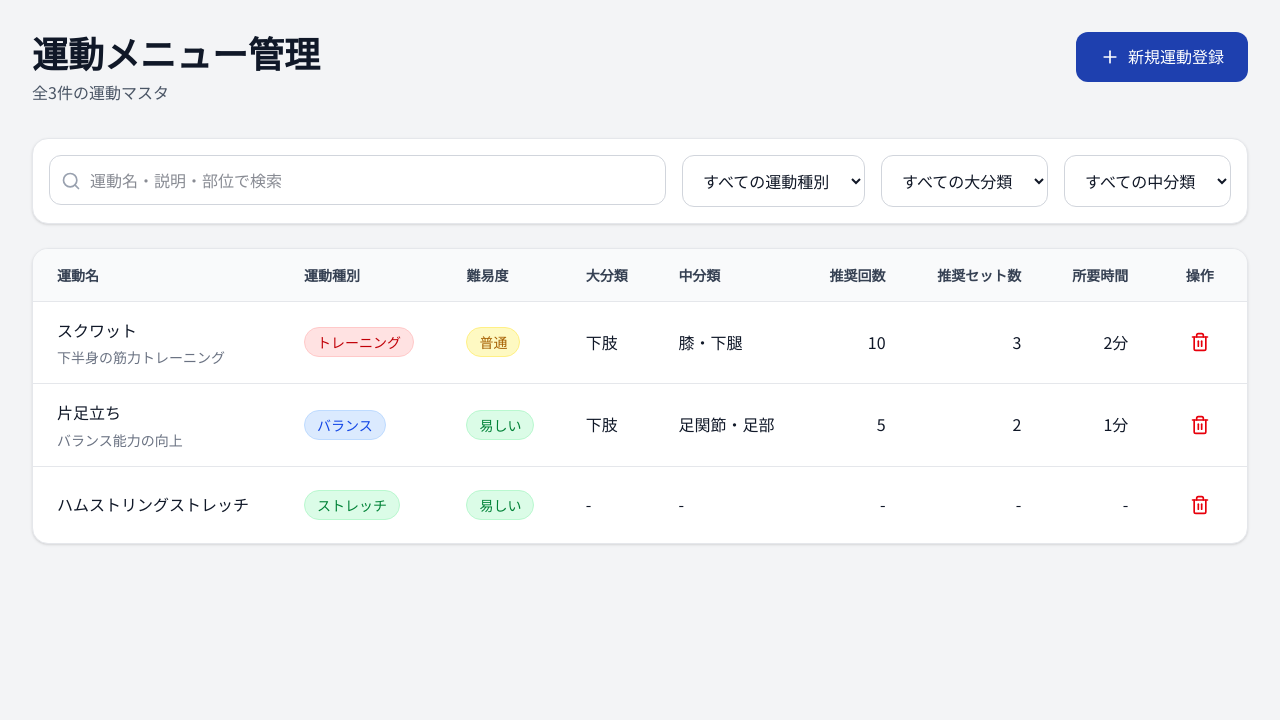
Test: S-10 ExerciseMenuManagement › filtering › should filter by difficulty
The image size is (1280, 720).
expect the text "スクワット" is shown: met, box [57, 318, 137, 342]
expect the text "片足立ち" is shown: met, box [57, 400, 121, 424]
Select "バランス" in the dropdown named "運動種別フィルター". click: (774, 181)
box: [682, 155, 865, 207]
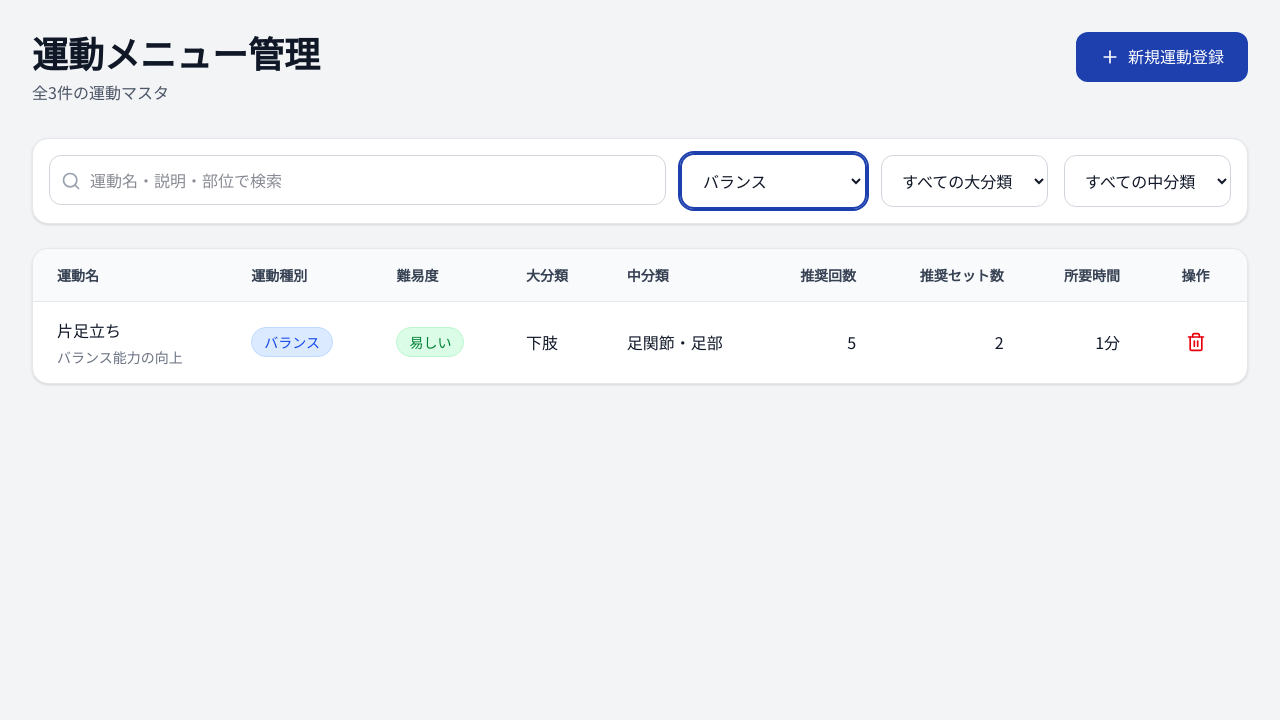
expect the text "片足立ち" is shown: met, box [57, 318, 121, 342]
expect the text "スクワット" is gone: met
expect the text "ハムストリングストレッチ" is gone: met
